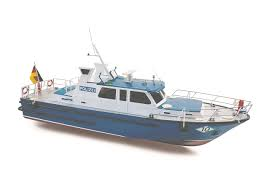boat: (19, 26, 251, 147)
